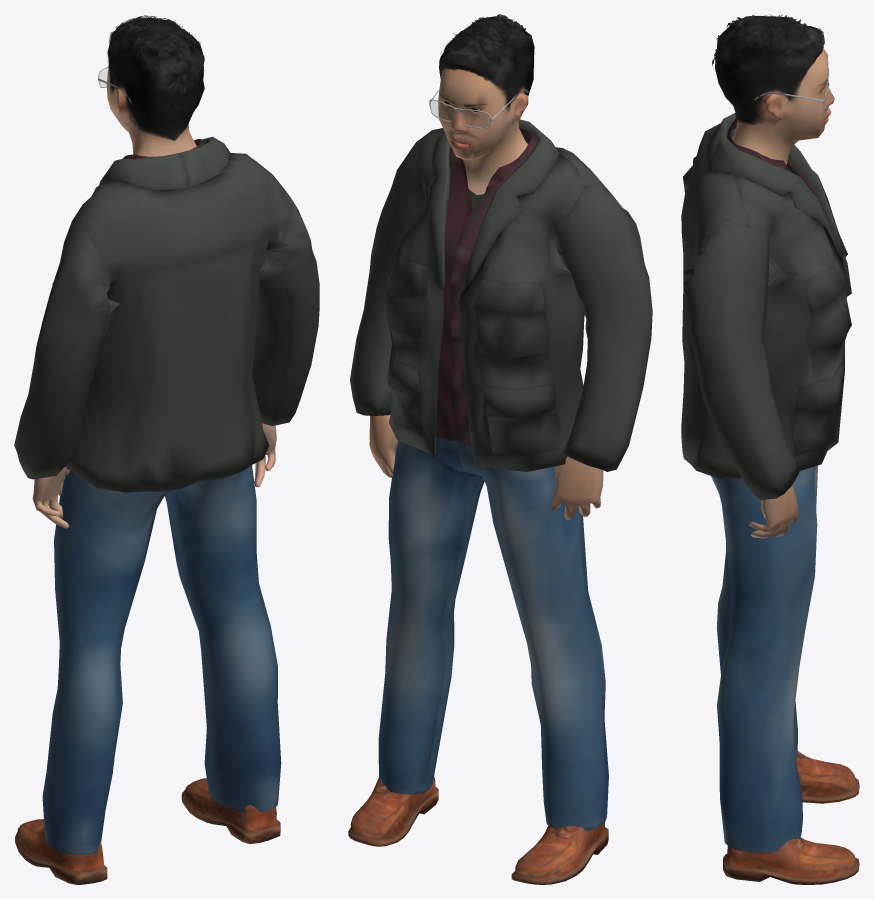
The model's file is casual_jacket_standing.glb.
The picture shows the model from 3 angles, left to right: view 1: azimuth 30°, elevation 25°; view 2: azimuth 150°, elevation 25°; view 3: azimuth 270°, elevation 25°; orthographic projection.
Parts seen in each view (by area): view 1: Human_atlas; view 2: Human_atlas; view 3: Human_atlas.
Boxes of the visible parts, box(x1,y1,x2,y2) form: Human_atlas: box(14, 15, 319, 884); Human_atlas: box(348, 14, 652, 884); Human_atlas: box(681, 14, 859, 884).
Size of the model in its own units: 0.5936 by 1.66 by 0.3283.
Materials: 1 (1 with a texture image).
